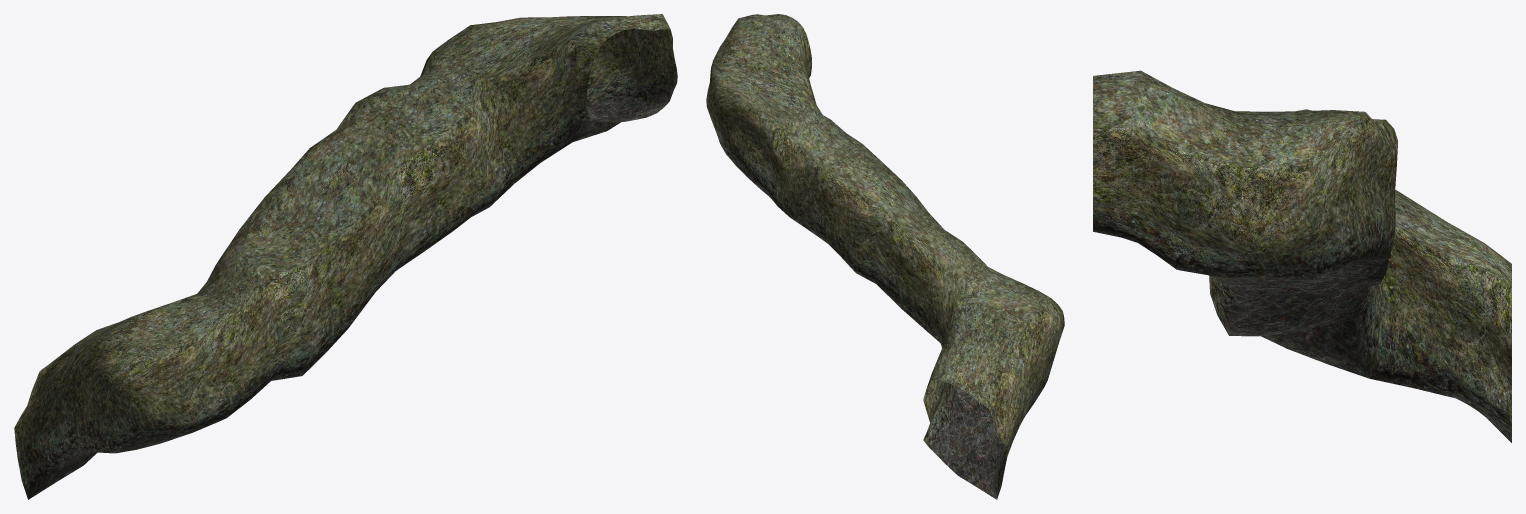
Rendered from thm_all_cave_s02_damprock_mirror_r1_mesh_r1.fbx.
3 views of the same model, side by side, from view 1: azimuth 30°, elevation 25°; view 2: azimuth 150°, elevation 25°; view 3: azimuth 270°, elevation 25° (orthographic). The views are drawn at different scales.
Parts seen in each view (by area): view 1: mesh_node; view 2: mesh_node; view 3: mesh_node.
Boxes of the visible parts, bbox=[...] form: mesh_node: bbox=[14, 14, 677, 499]; mesh_node: bbox=[706, 14, 1064, 499]; mesh_node: bbox=[1093, 70, 1511, 442].
Bounding box in the file's own units: 53.32 × 45.87 × 26.29.
